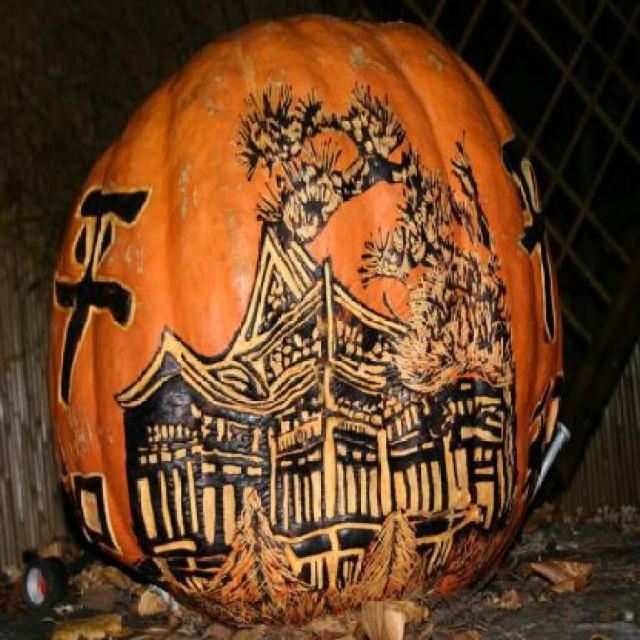Pumpkin: (51, 0, 556, 609)
